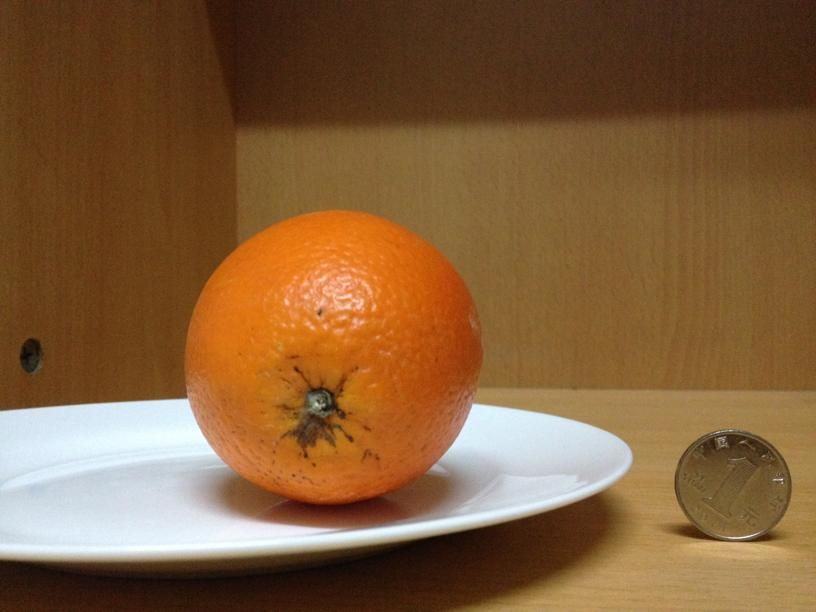coin: (675, 428, 792, 543)
orange: (183, 205, 485, 503)
